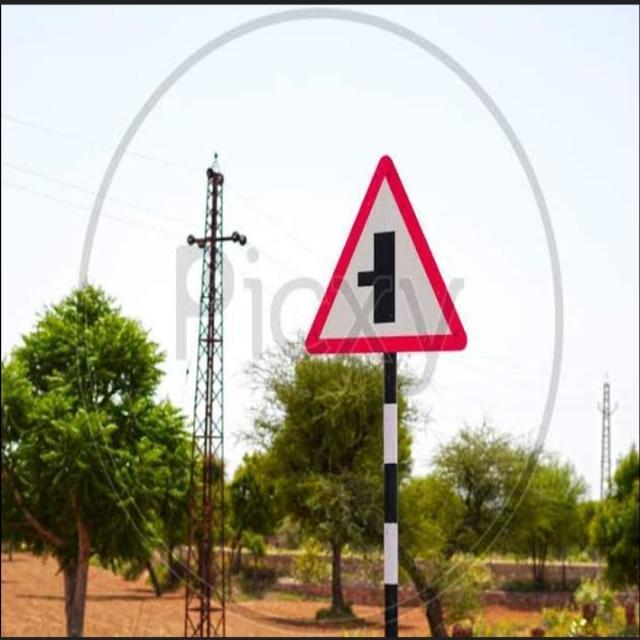side road left: (307, 147, 474, 353)
